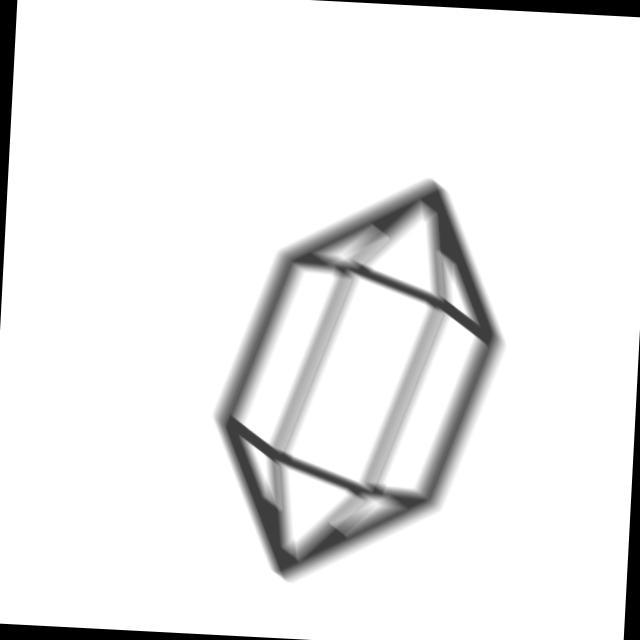crystal: (198, 160, 521, 599)
